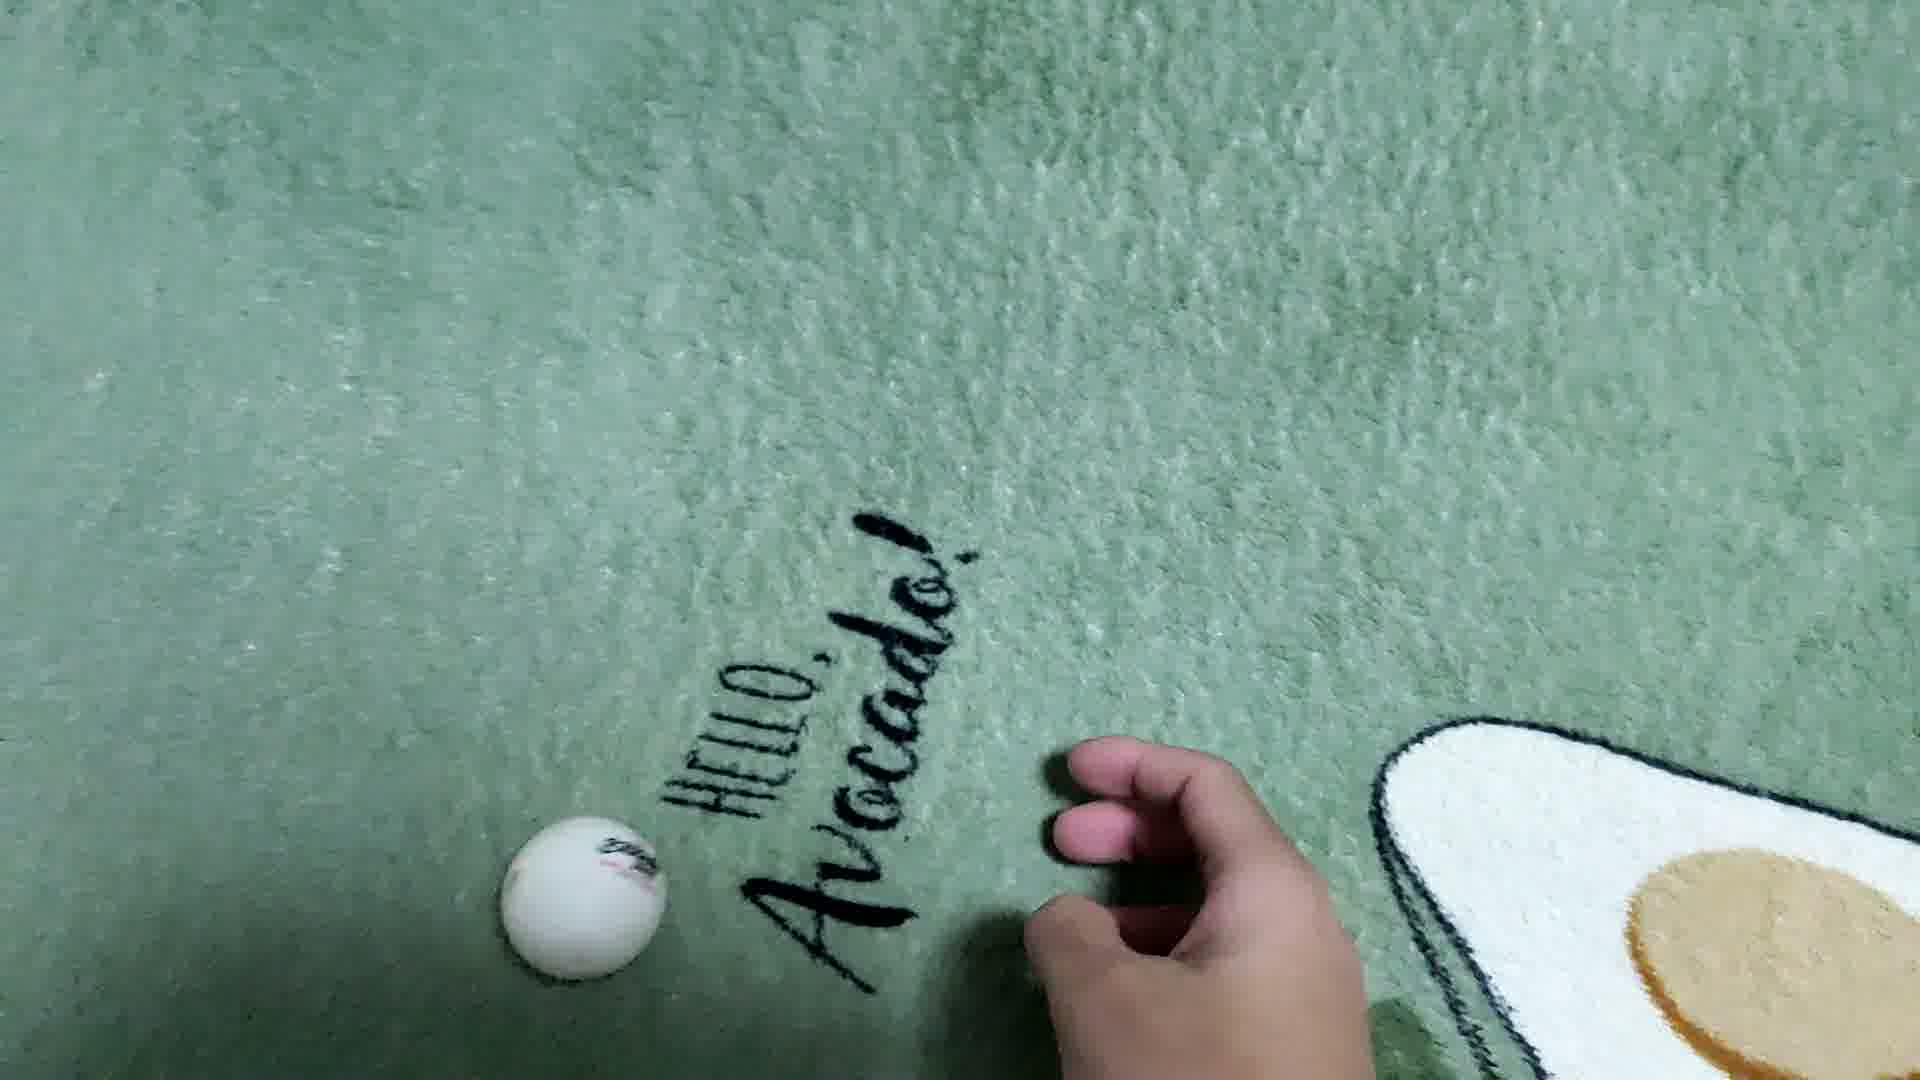Ball: (501, 819, 676, 985)
